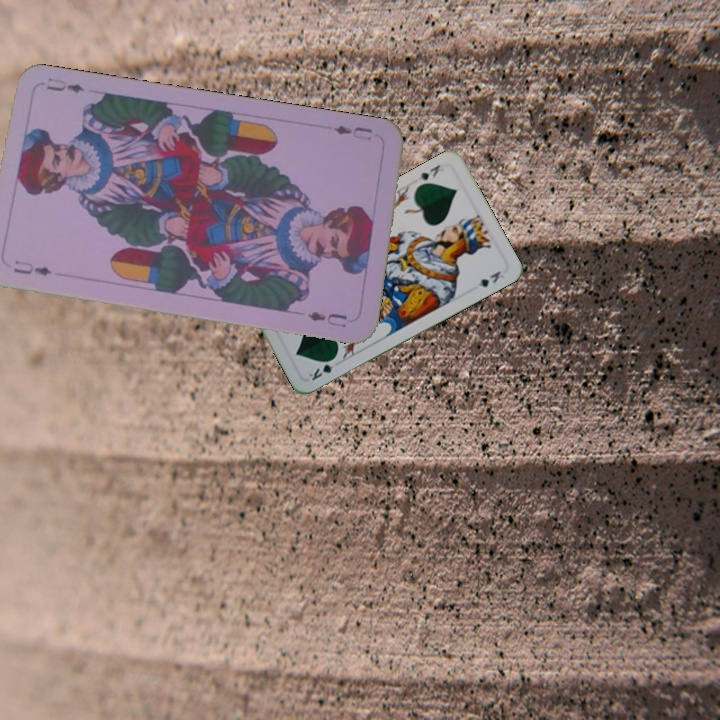EU: (9, 256, 54, 279), (330, 121, 375, 143)
GK: (304, 353, 339, 383), (414, 160, 443, 183)
